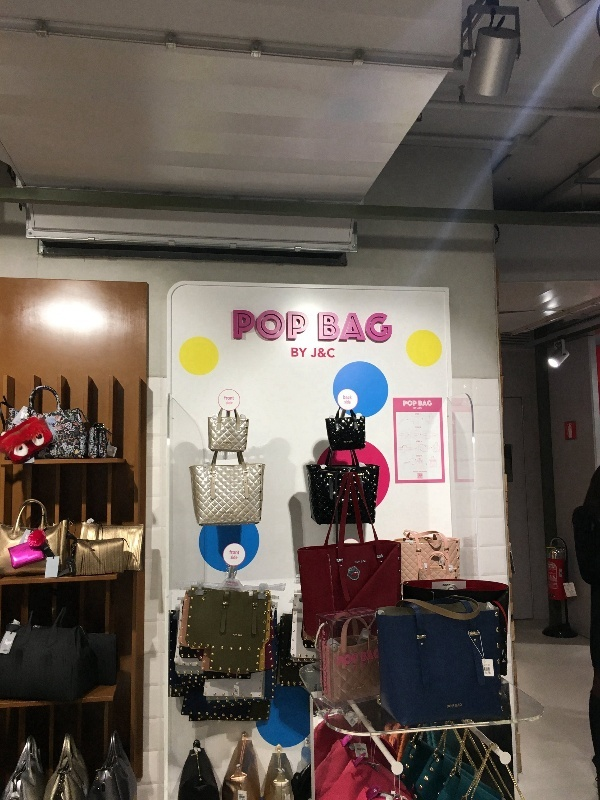text: (323, 654, 336, 694), (241, 309, 256, 342), (257, 309, 272, 342), (273, 309, 288, 342), (289, 309, 304, 342), (321, 313, 336, 344), (337, 313, 352, 344), (353, 313, 368, 344), (369, 313, 384, 344), (322, 630, 336, 651), (385, 313, 393, 344), (337, 653, 352, 667), (234, 309, 240, 342), (321, 348, 335, 359), (305, 309, 309, 342), (292, 348, 304, 358), (369, 649, 378, 662), (311, 348, 320, 359), (361, 649, 368, 662), (353, 653, 359, 667), (418, 401, 432, 406), (403, 401, 416, 406), (318, 313, 320, 344), (354, 665, 368, 669), (359, 663, 368, 669), (355, 561, 368, 565), (230, 550, 240, 555), (484, 668, 496, 672), (225, 396, 234, 401), (319, 620, 320, 663), (321, 620, 322, 663), (226, 402, 240, 405), (344, 395, 352, 400), (456, 703, 464, 708), (227, 581, 240, 584), (231, 556, 240, 560), (417, 407, 432, 409), (449, 584, 464, 586), (321, 665, 322, 688), (345, 401, 352, 404), (361, 560, 368, 563), (233, 634, 240, 637), (489, 672, 496, 675), (305, 348, 307, 358), (449, 705, 454, 709), (486, 672, 496, 674), (443, 584, 448, 587), (233, 582, 240, 584), (413, 407, 416, 410), (238, 634, 240, 637), (447, 705, 448, 709), (241, 634, 242, 637)
